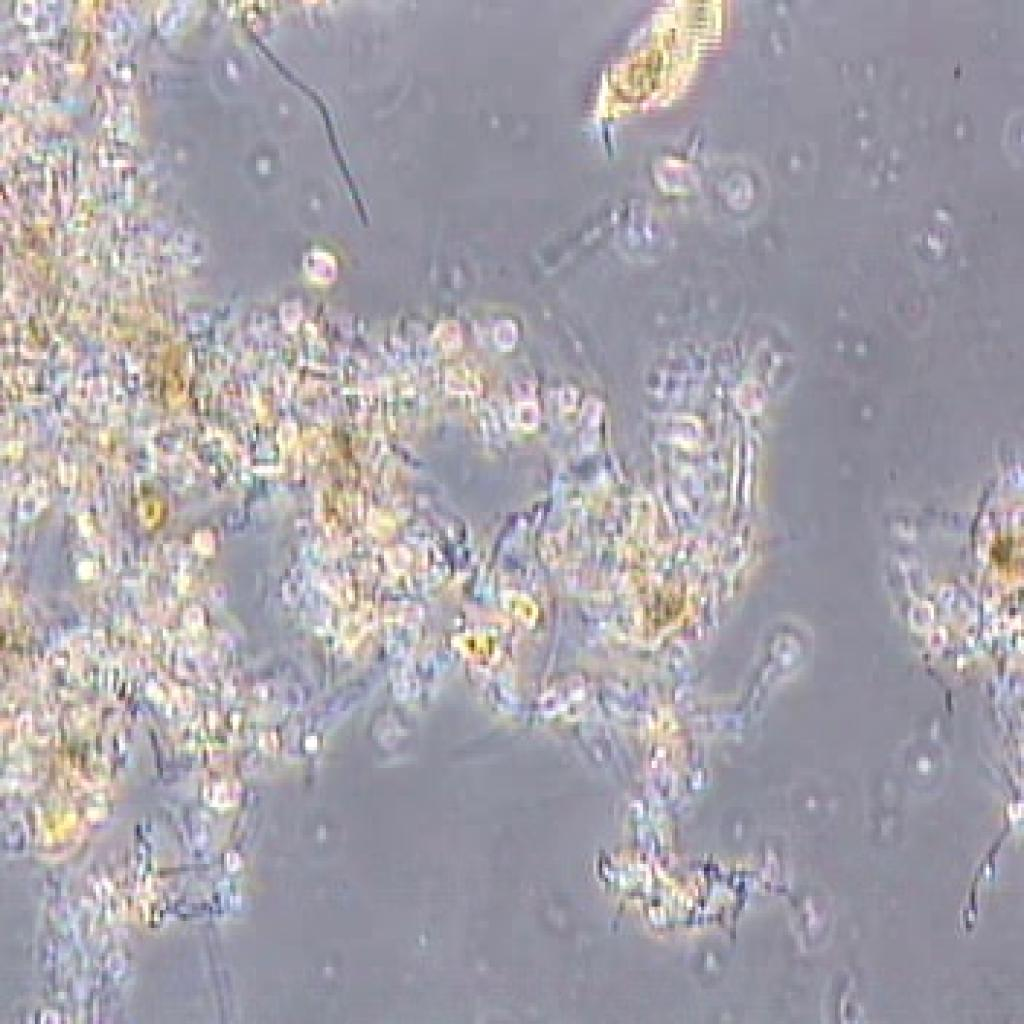Chaetonotus: (558, 0, 754, 146)
